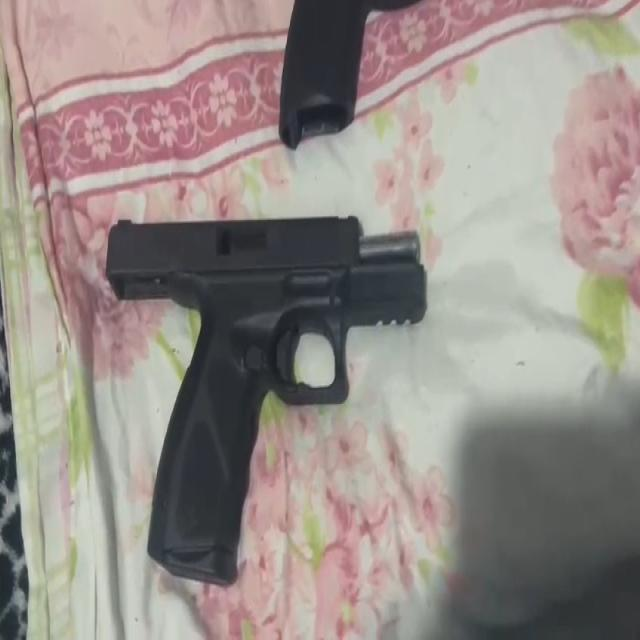gun: (104, 208, 432, 586)
